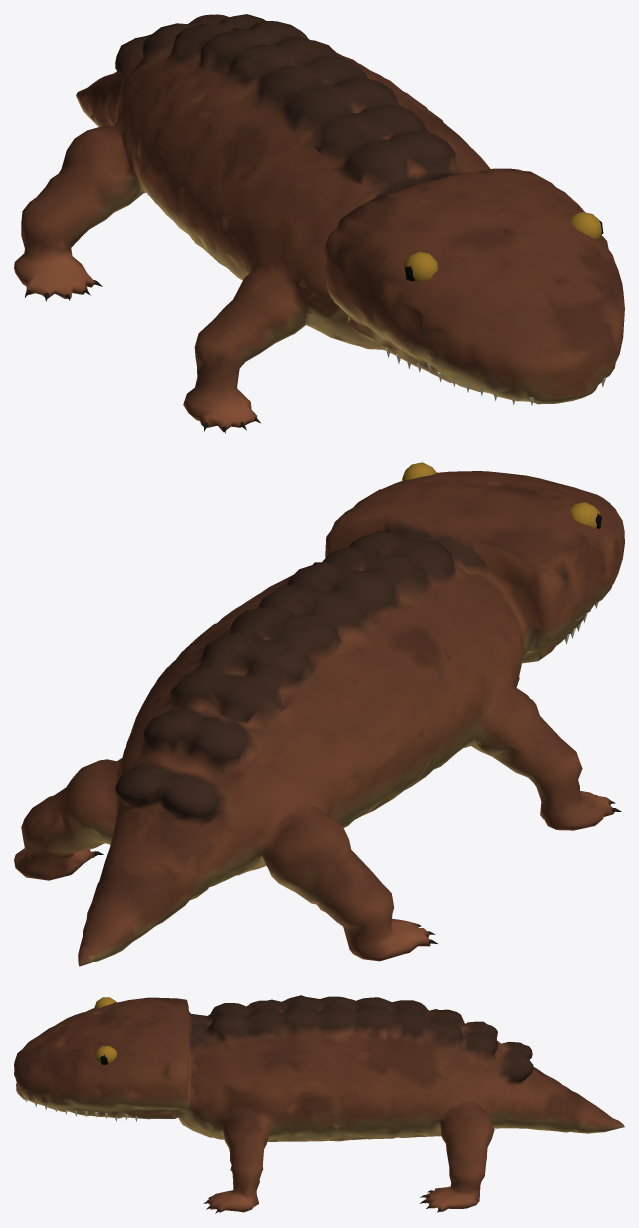
Rendered from Cacops.fbx.
The picture shows the model from 3 angles, top to bottom: view 1: azimuth 30°, elevation 25°; view 2: azimuth 150°, elevation 25°; view 3: azimuth 270°, elevation 25°; orthographic projection. The views are drawn at different scales.
Visible parts, largest first — view 1: Cacops; view 2: Cacops; view 3: Cacops.
Boxes of the visible parts, bbox=[...] form: Cacops: bbox=[14, 14, 624, 433]; Cacops: bbox=[14, 462, 624, 966]; Cacops: bbox=[14, 995, 624, 1213].
Bounding box in the file's own units: 0.5879 × 0.3364 × 1.22.
